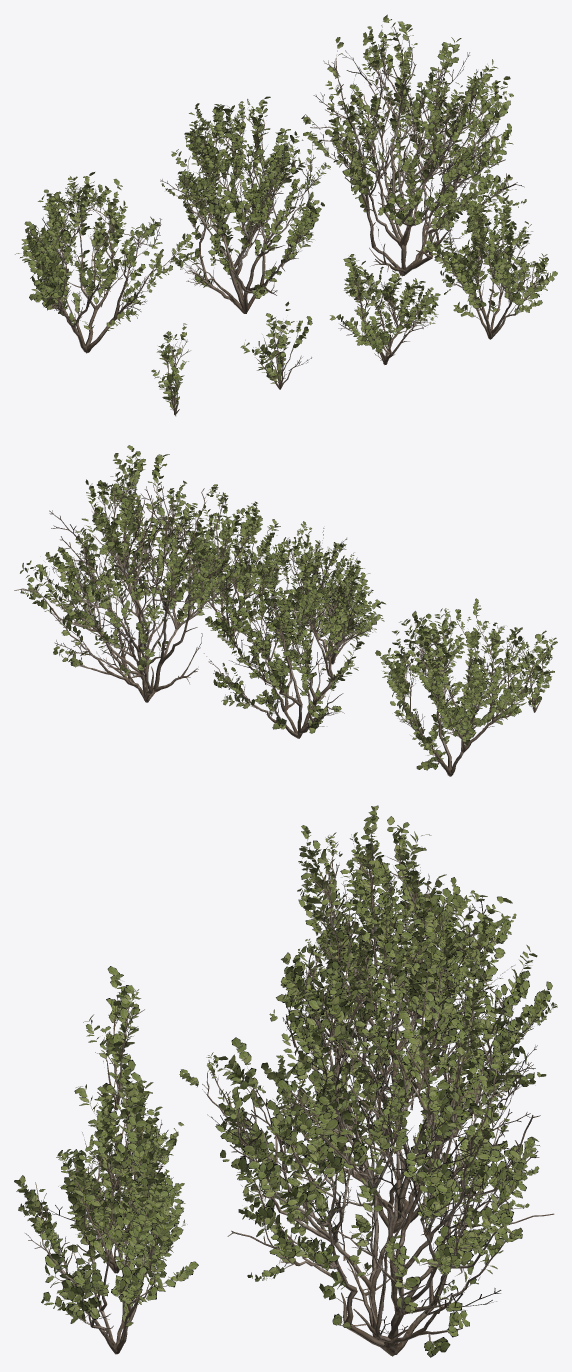
Rendered from searsia.glb.
The picture shows the model from 3 angles, top to bottom: view 1: azimuth 30°, elevation 25°; view 2: azimuth 150°, elevation 25°; view 3: azimuth 270°, elevation 25°; orthographic projection. The views are drawn at different scales.
Visible parts, largest first — view 1: searsia_lucida_a_LOD0, searsia_lucida_b_LOD0, searsia_lucida_c_LOD0, searsia_lucida_d_LOD0, searsia_lucida_e_LOD0, searsia_lucida_f_LOD0, searsia_lucida_g_LOD0; view 2: searsia_lucida_a_LOD0, searsia_lucida_b_LOD0, searsia_lucida_c_LOD0, searsia_lucida_d_LOD0, searsia_lucida_e_LOD0, searsia_lucida_f_LOD0, searsia_lucida_g_LOD0; view 3: searsia_lucida_a_LOD0, searsia_lucida_b_LOD0, searsia_lucida_d_LOD0, searsia_lucida_c_LOD0, searsia_lucida_e_LOD0, searsia_lucida_g_LOD0, searsia_lucida_f_LOD0.
Boxes of the visible parts, <box> form: searsia_lucida_a_LOD0: <box>301,14,526,276</box>; searsia_lucida_b_LOD0: <box>160,96,330,313</box>; searsia_lucida_c_LOD0: <box>15,172,193,353</box>; searsia_lucida_d_LOD0: <box>425,176,557,339</box>; searsia_lucida_e_LOD0: <box>330,254,450,364</box>; searsia_lucida_f_LOD0: <box>240,301,312,389</box>; searsia_lucida_g_LOD0: <box>151,323,190,416</box>; searsia_lucida_a_LOD0: <box>14,445,270,702</box>; searsia_lucida_b_LOD0: <box>204,521,373,738</box>; searsia_lucida_c_LOD0: <box>375,598,557,776</box>; searsia_lucida_d_LOD0: <box>177,495,295,637</box>; searsia_lucida_e_LOD0: <box>281,565,385,664</box>; searsia_lucida_f_LOD0: <box>399,611,465,681</box>; searsia_lucida_g_LOD0: <box>513,629,554,712</box>; searsia_lucida_a_LOD0: <box>179,950,554,1357</box>; searsia_lucida_b_LOD0: <box>269,881,557,1233</box>; searsia_lucida_d_LOD0: <box>14,1105,198,1354</box>; searsia_lucida_c_LOD0: <box>276,805,516,1110</box>; searsia_lucida_e_LOD0: <box>48,1068,183,1273</box>; searsia_lucida_g_LOD0: <box>83,966,144,1110</box>; searsia_lucida_f_LOD0: <box>74,1078,165,1191</box>.
Size of the model in its own units: 4.75 by 2.32 by 2.85.
3 materials, 3 textured.
